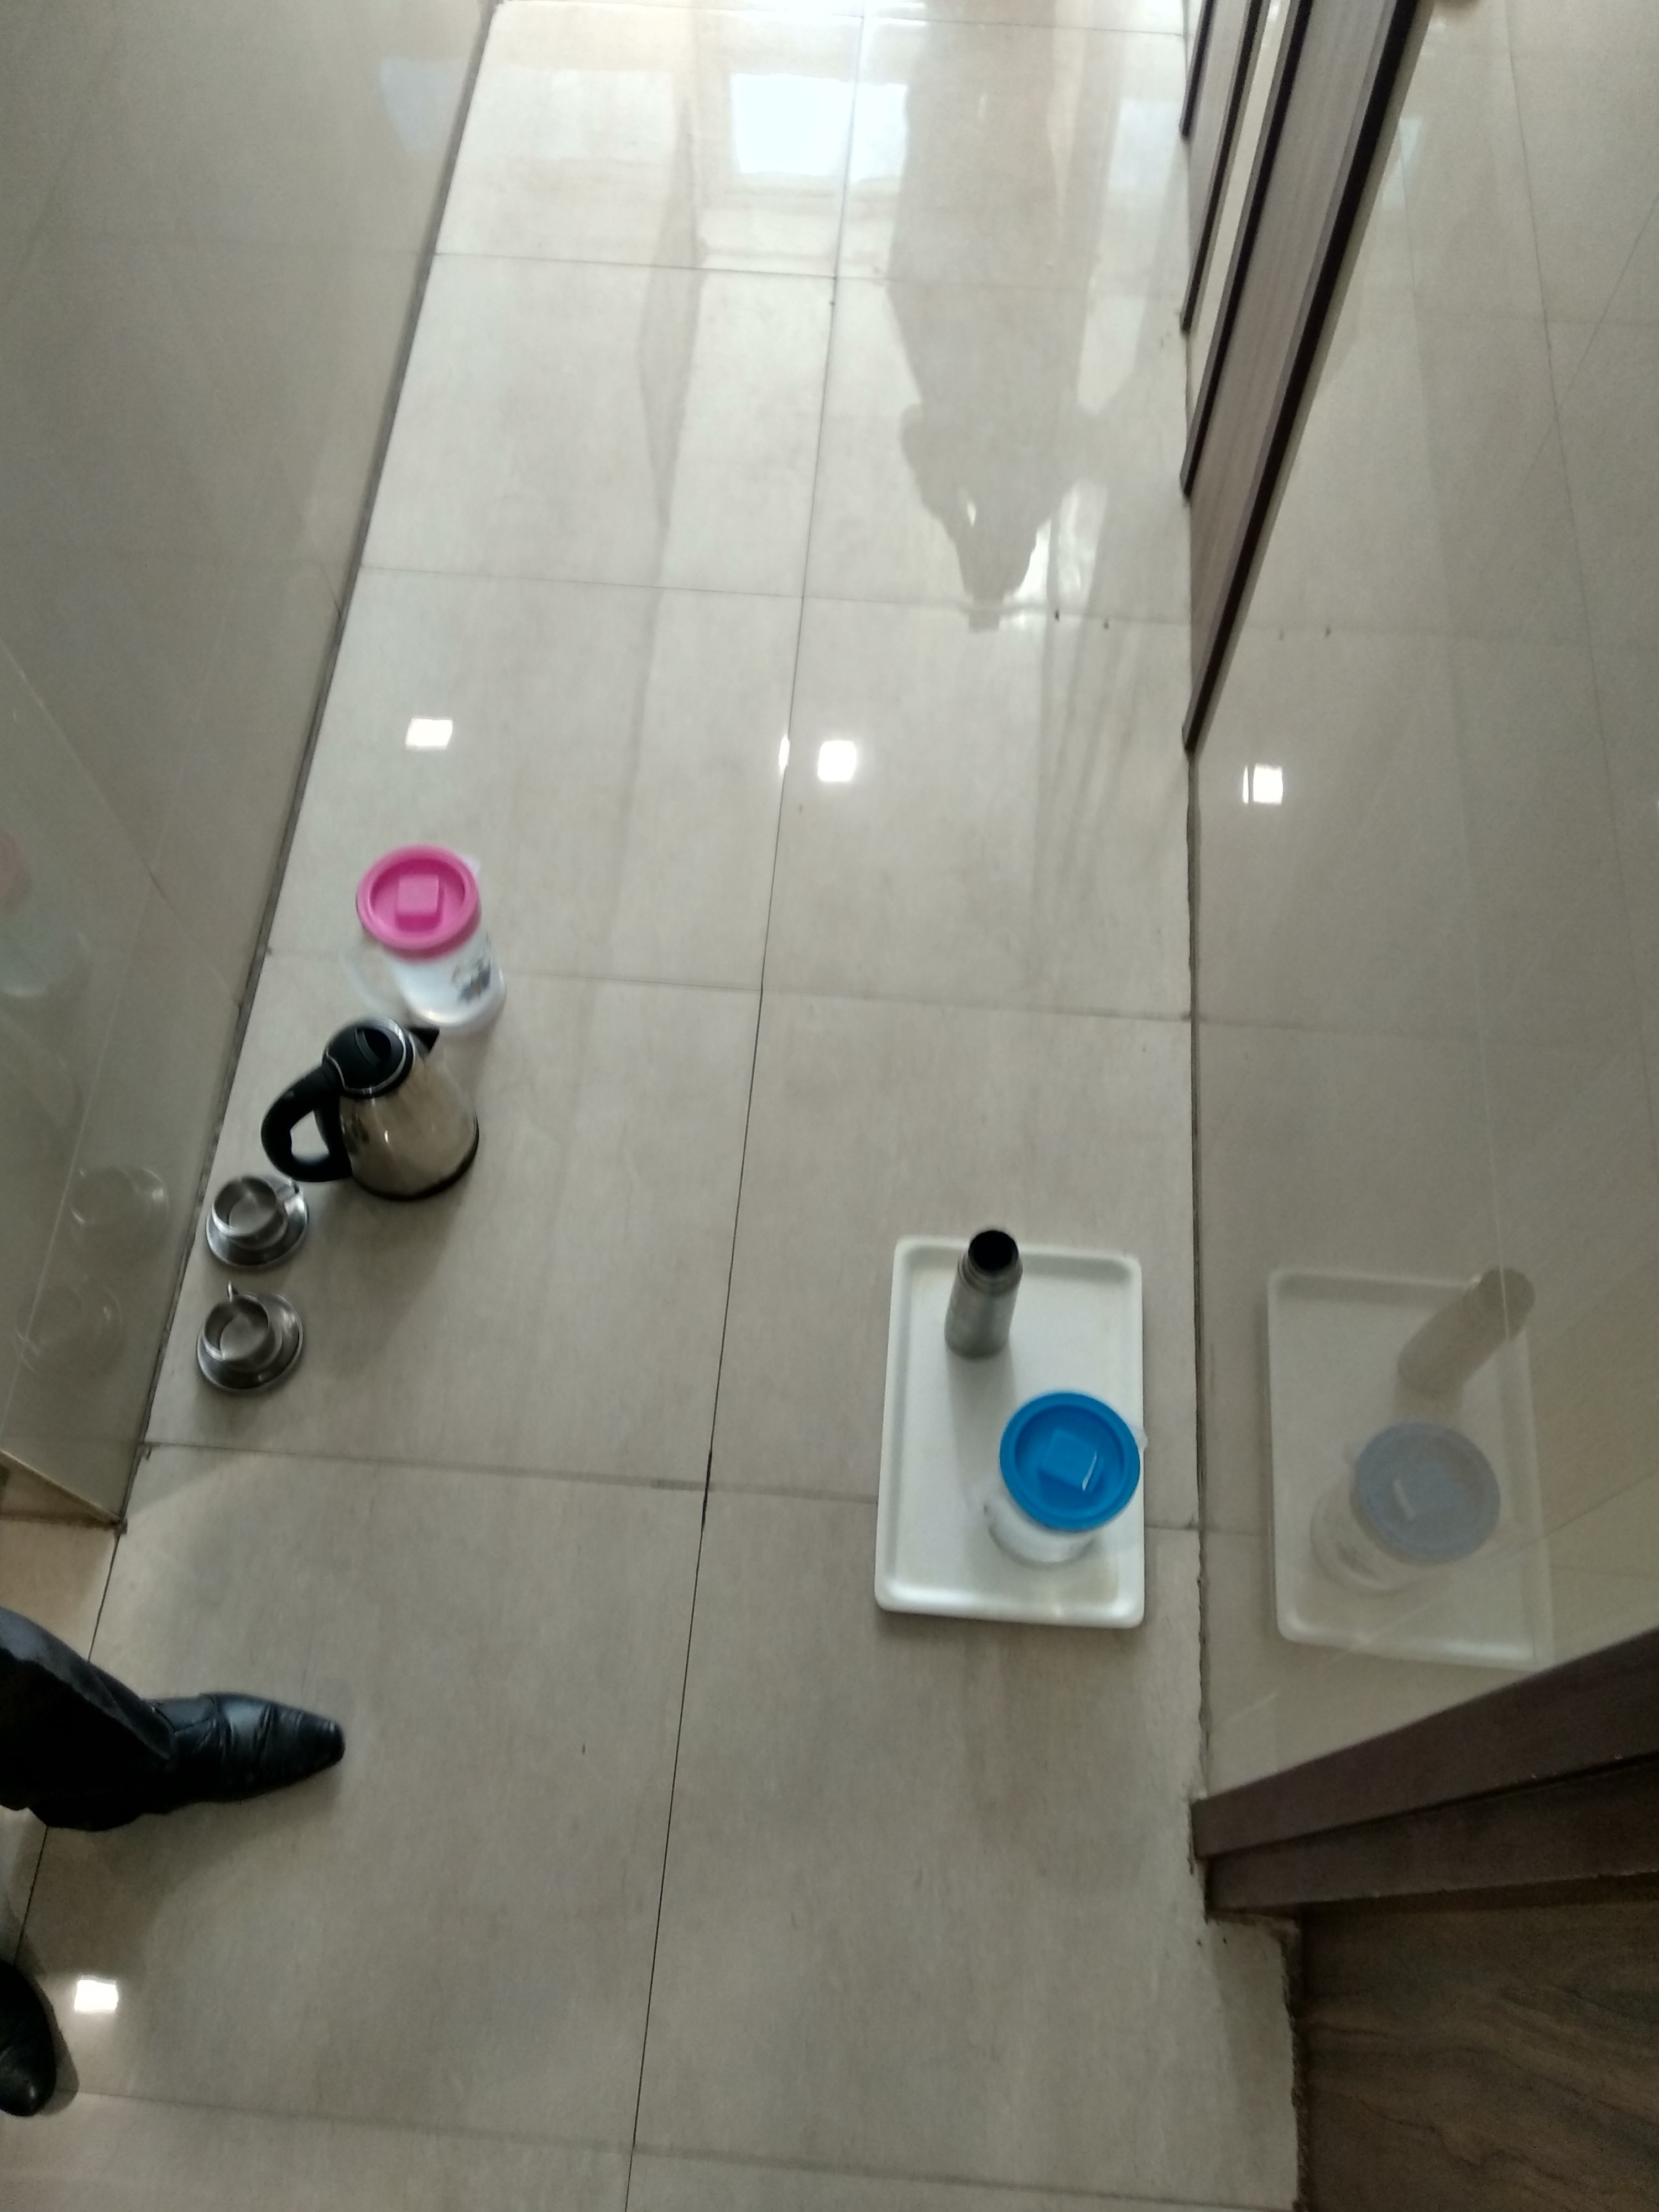CUP: (188, 1277, 324, 1397), (193, 1151, 319, 1266)
FLASK: (938, 1205, 1053, 1367)
JUG: (265, 1017, 488, 1197), (340, 824, 528, 1022), (981, 1376, 1161, 1581)
